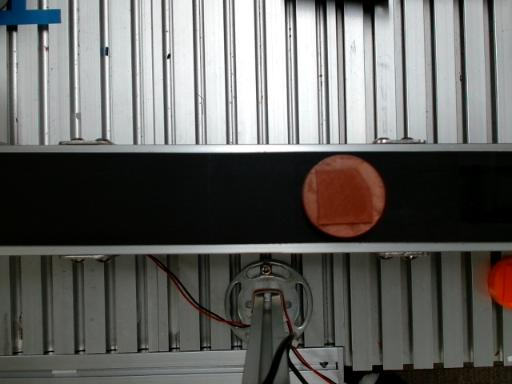Brown_Waper: (302, 155, 385, 237)
Not_Square: (315, 168, 374, 226)
